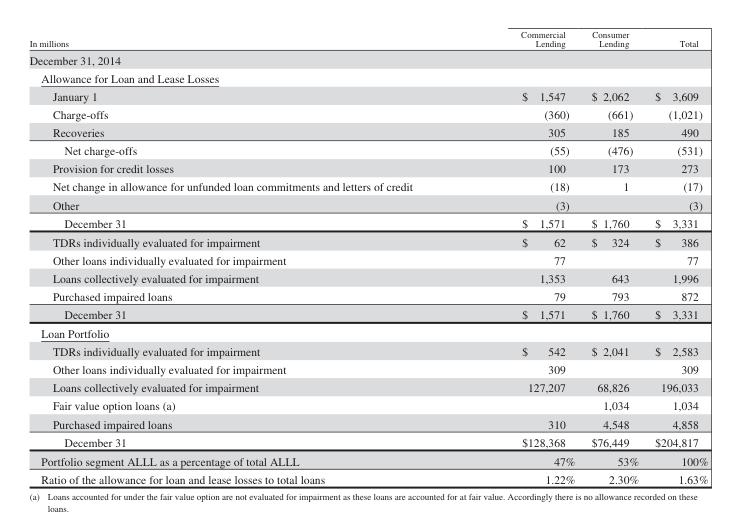table: (28, 28, 707, 485)
table column: (28, 28, 466, 485), (466, 28, 582, 485), (582, 28, 646, 485), (646, 28, 707, 485)
table column header: (28, 28, 707, 50)
table projected row header: (28, 323, 707, 342), (28, 50, 707, 68), (28, 68, 707, 86)
table row: (28, 28, 707, 50), (28, 86, 707, 105), (28, 213, 707, 232), (28, 286, 707, 305), (28, 323, 707, 342), (28, 432, 707, 451), (28, 50, 707, 68), (28, 68, 707, 86), (28, 105, 707, 123), (28, 123, 707, 141), (28, 141, 707, 159), (28, 159, 707, 177), (28, 177, 707, 195), (28, 195, 707, 213), (28, 232, 707, 250), (28, 250, 707, 268), (28, 268, 707, 286), (28, 305, 707, 323), (28, 342, 707, 360), (28, 360, 707, 378), (28, 378, 707, 396), (28, 396, 707, 414), (28, 414, 707, 432), (28, 451, 707, 469), (28, 469, 707, 485)
